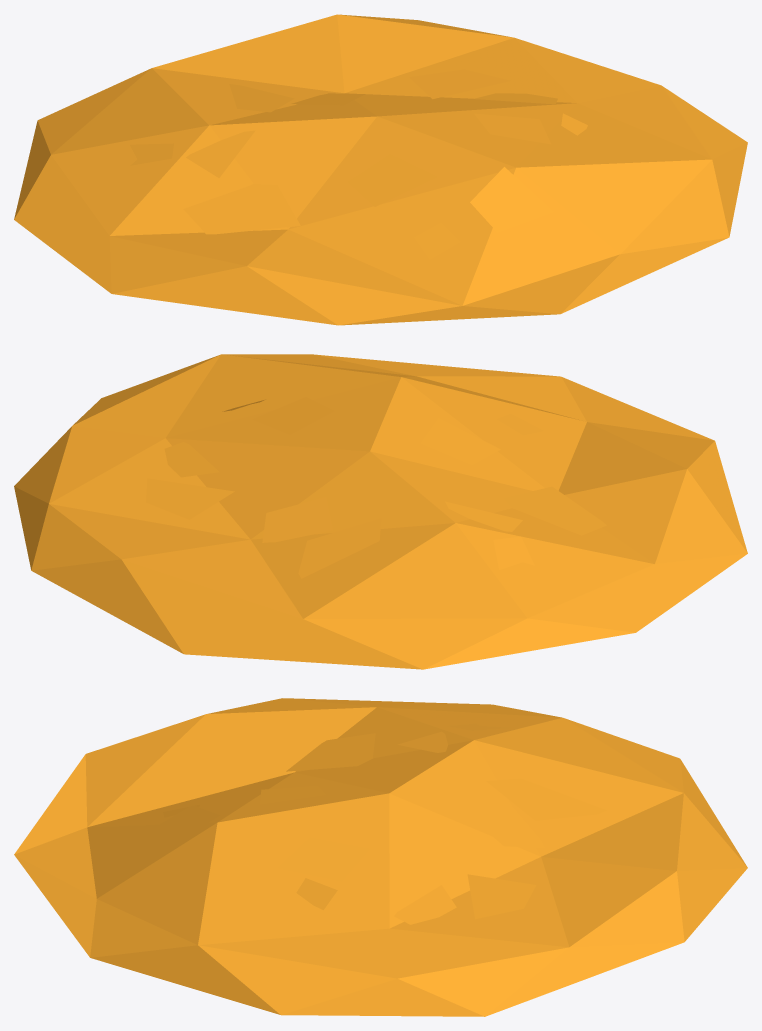
File: SM_Gruel.fbx
The picture shows the model from 3 angles, top to bottom: view 1: azimuth 30°, elevation 25°; view 2: azimuth 150°, elevation 25°; view 3: azimuth 270°, elevation 25°; orthographic projection.
Parts seen in each view (by area): view 1: gruel; view 2: gruel; view 3: gruel.
Boxes of the visible parts, x1,y1,x2,y2 form: gruel: (14,14,747,325); gruel: (14,354,747,669); gruel: (14,698,747,1016).
Bounding box in the file's own units: 0.2426 × 0.0267 × 0.2396.
